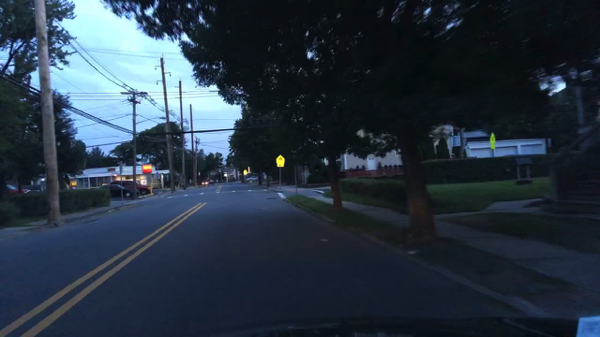car: (109, 179, 150, 196), (97, 184, 132, 199), (2, 182, 31, 194), (245, 175, 259, 182), (200, 180, 211, 187), (211, 177, 215, 184)
traffic sign: (275, 155, 284, 168), (489, 132, 495, 150), (242, 169, 248, 176)
